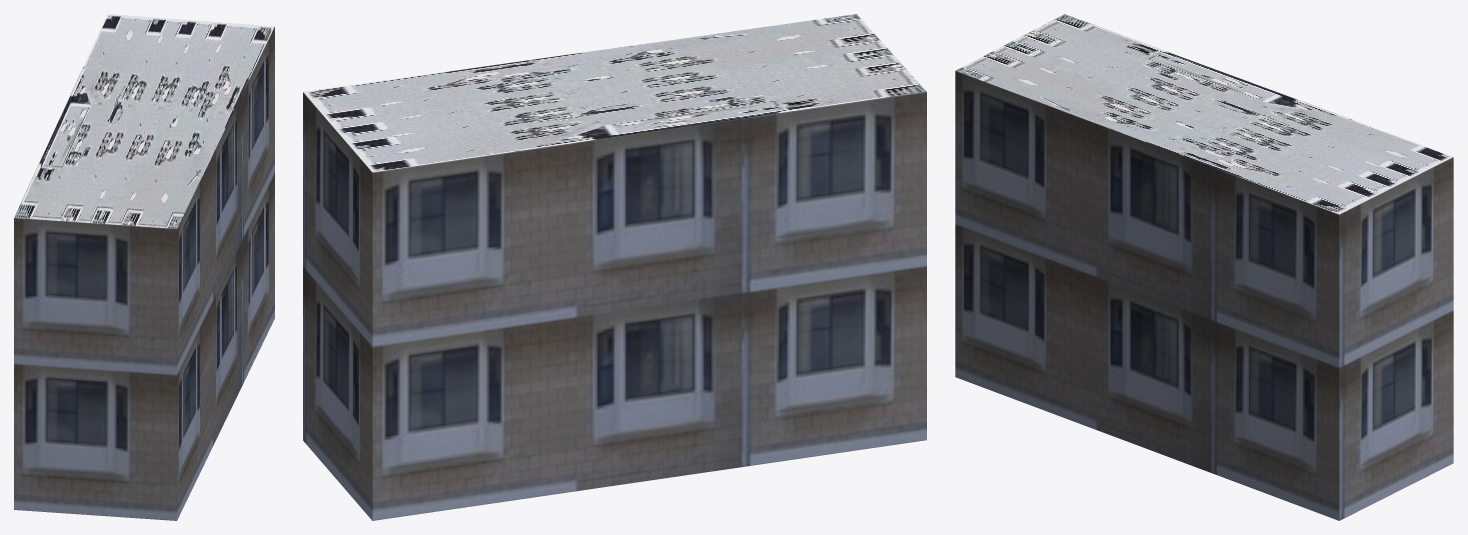
File: ResTex__4240.fbx
3 views of the same model, side by side, from view 1: azimuth 30°, elevation 25°; view 2: azimuth 150°, elevation 25°; view 3: azimuth 270°, elevation 25° (orthographic). The views are drawn at different scales.
Parts seen in each view (by area): view 1: CityEngineMaterial_3_m, CityEngineMaterial_4_m; view 2: CityEngineMaterial_3_m, CityEngineMaterial_4_m; view 3: CityEngineMaterial_3_m, CityEngineMaterial_4_m.
Boxes of the visible parts, bbox=[...] form: CityEngineMaterial_3_m: bbox=[14, 27, 274, 520]; CityEngineMaterial_4_m: bbox=[14, 14, 274, 228]; CityEngineMaterial_3_m: bbox=[303, 91, 926, 520]; CityEngineMaterial_4_m: bbox=[303, 14, 926, 172]; CityEngineMaterial_3_m: bbox=[955, 71, 1453, 520]; CityEngineMaterial_4_m: bbox=[955, 14, 1453, 214].
Size of the model in its own units: 8.43 by 6 by 8.85.
Materials: 2 (2 with a texture image).
